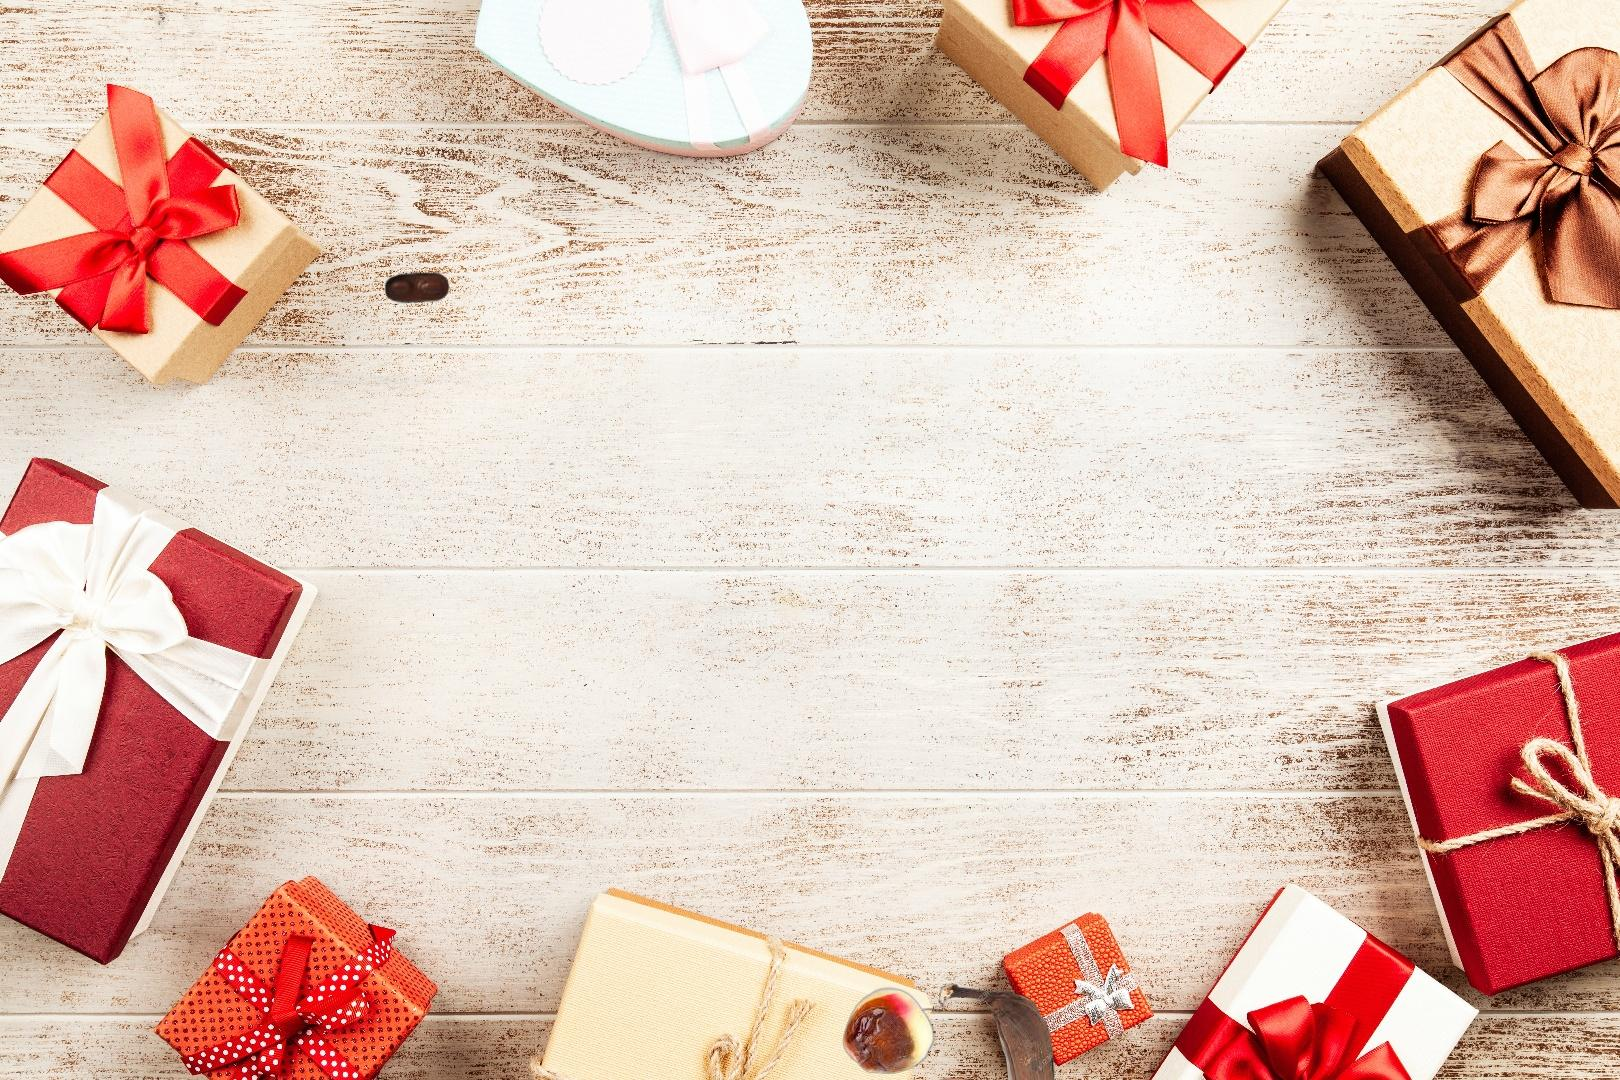biological: (839, 981, 1057, 1080)
trash: (382, 270, 452, 306)
